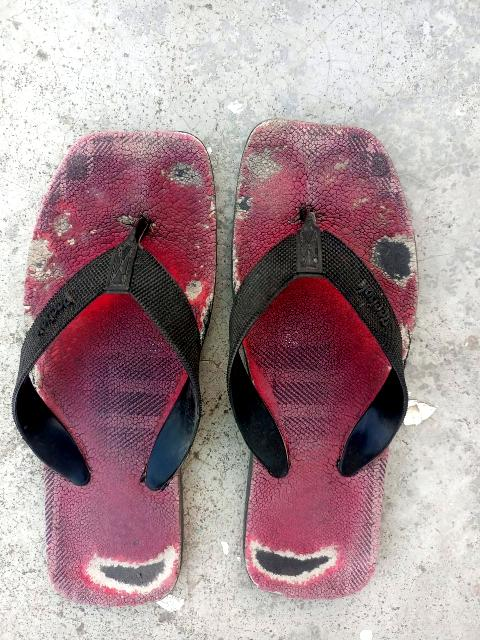sandal: (194, 68, 423, 597), (36, 128, 210, 612)
